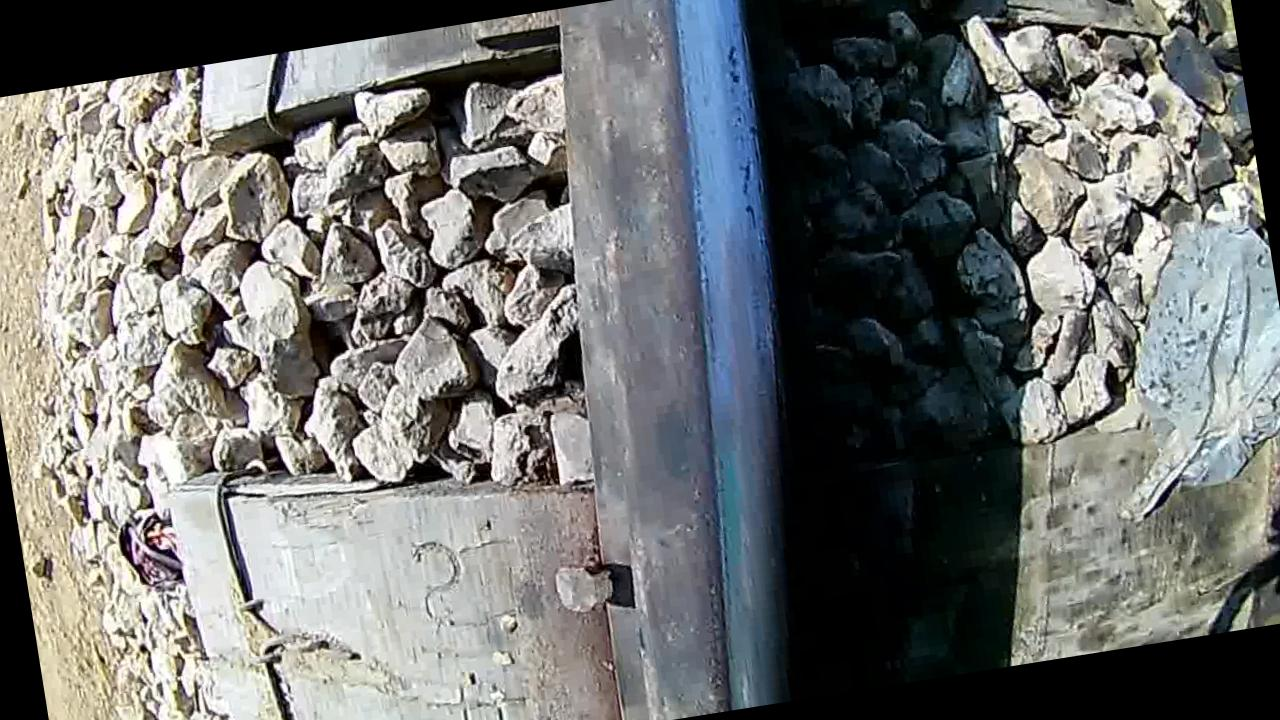crack: (562, 0, 852, 719)
